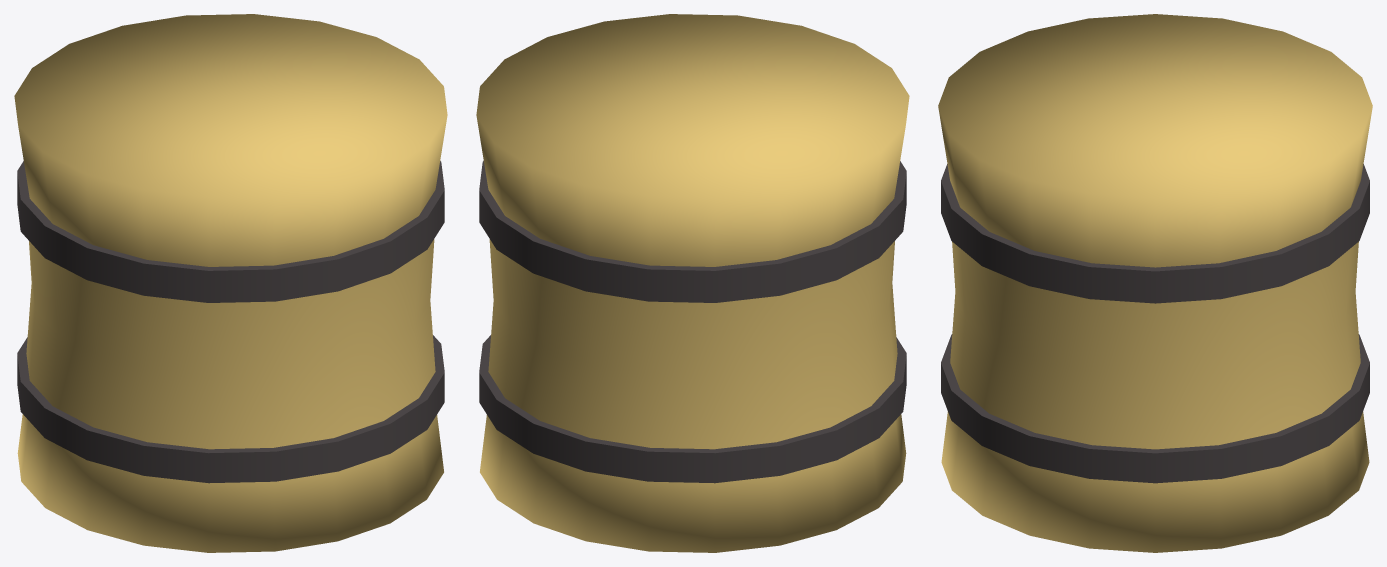
File: SM_hay.fbx
3 renders of one model, left to right at view 1: azimuth 30°, elevation 25°; view 2: azimuth 150°, elevation 25°; view 3: azimuth 270°, elevation 25°, orthographic.
Visible parts, largest first — view 1: SM_hay; view 2: SM_hay; view 3: SM_hay.
Boxes of the visible parts, box(x1,y1,x2,y2) form: SM_hay: box(14, 14, 447, 552); SM_hay: box(476, 14, 909, 552); SM_hay: box(938, 14, 1372, 552).
Size of the model in its own units: 111 by 100 by 111.
